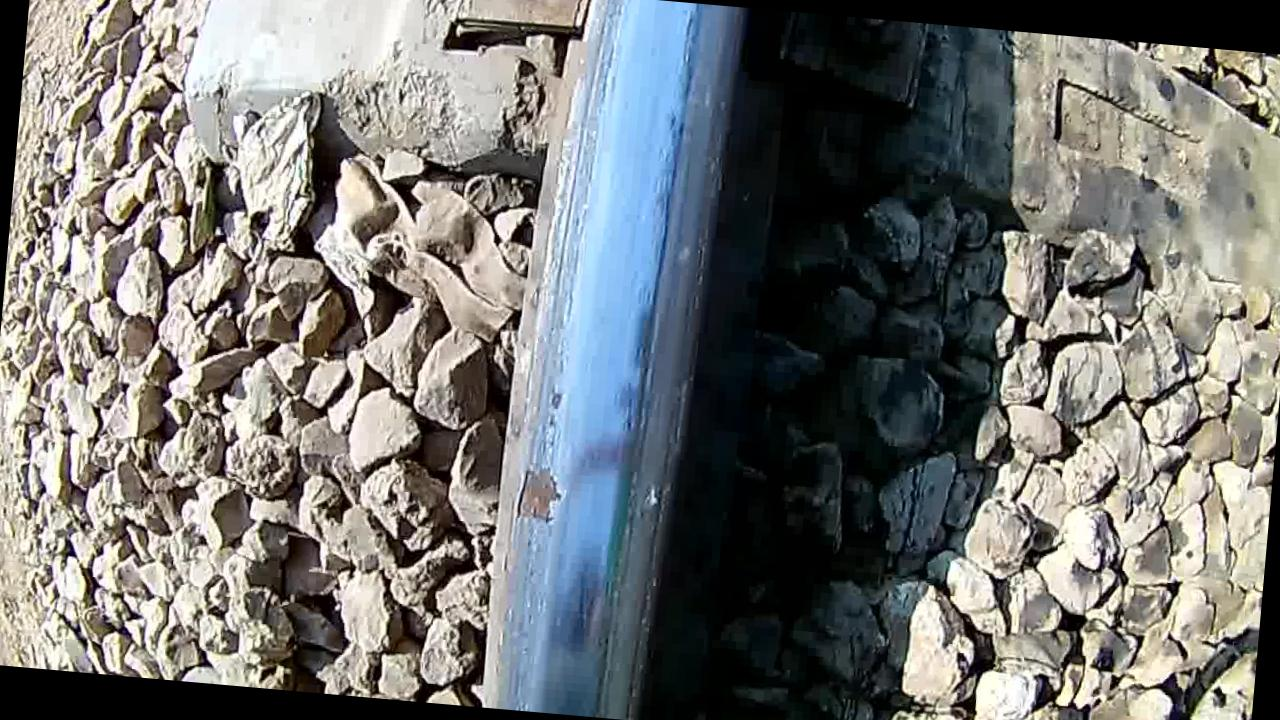crack: (494, 0, 725, 720)
